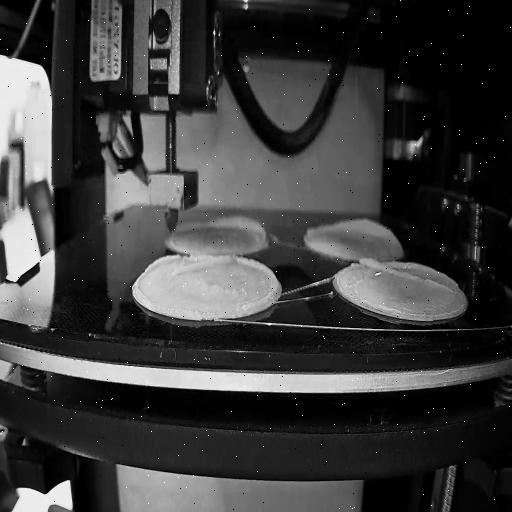over_extrusion: (359, 254, 451, 292), (305, 216, 397, 244), (236, 258, 280, 308), (207, 216, 268, 244), (175, 254, 232, 276)
